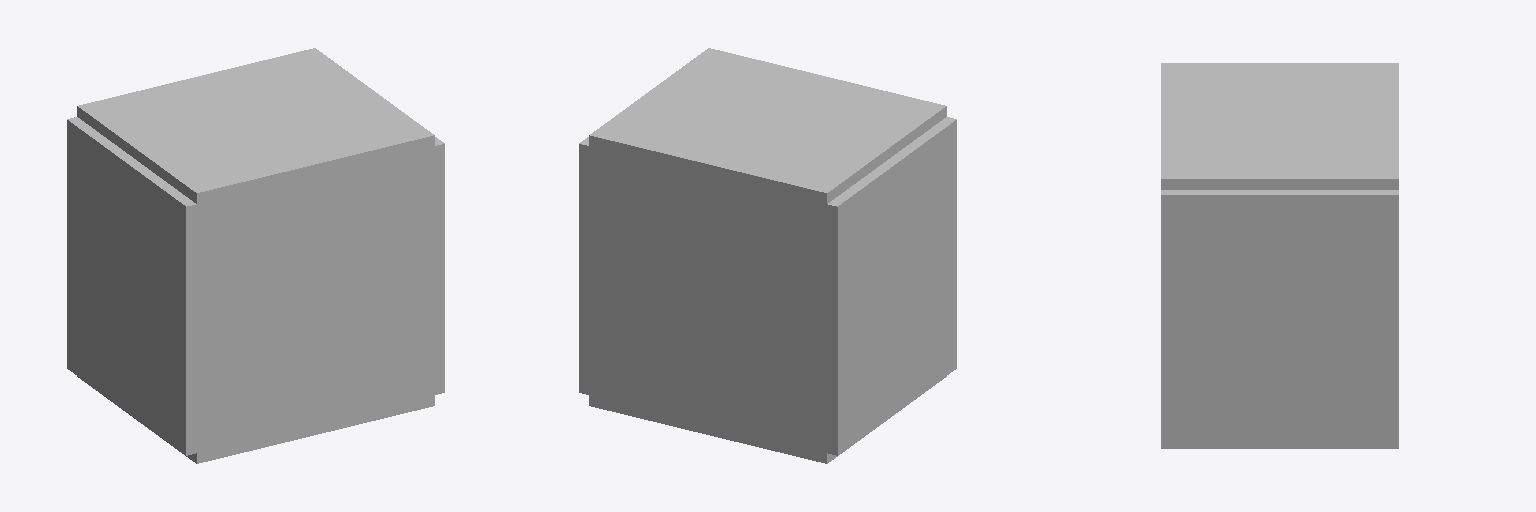
The model's file is poweredPistonBase.obj.
3 renders of one model, left to right at view 1: azimuth 30°, elevation 25°; view 2: azimuth 150°, elevation 25°; view 3: azimuth 270°, elevation 25°, orthographic.
Size of the model in its own units: 1 by 1 by 0.8.